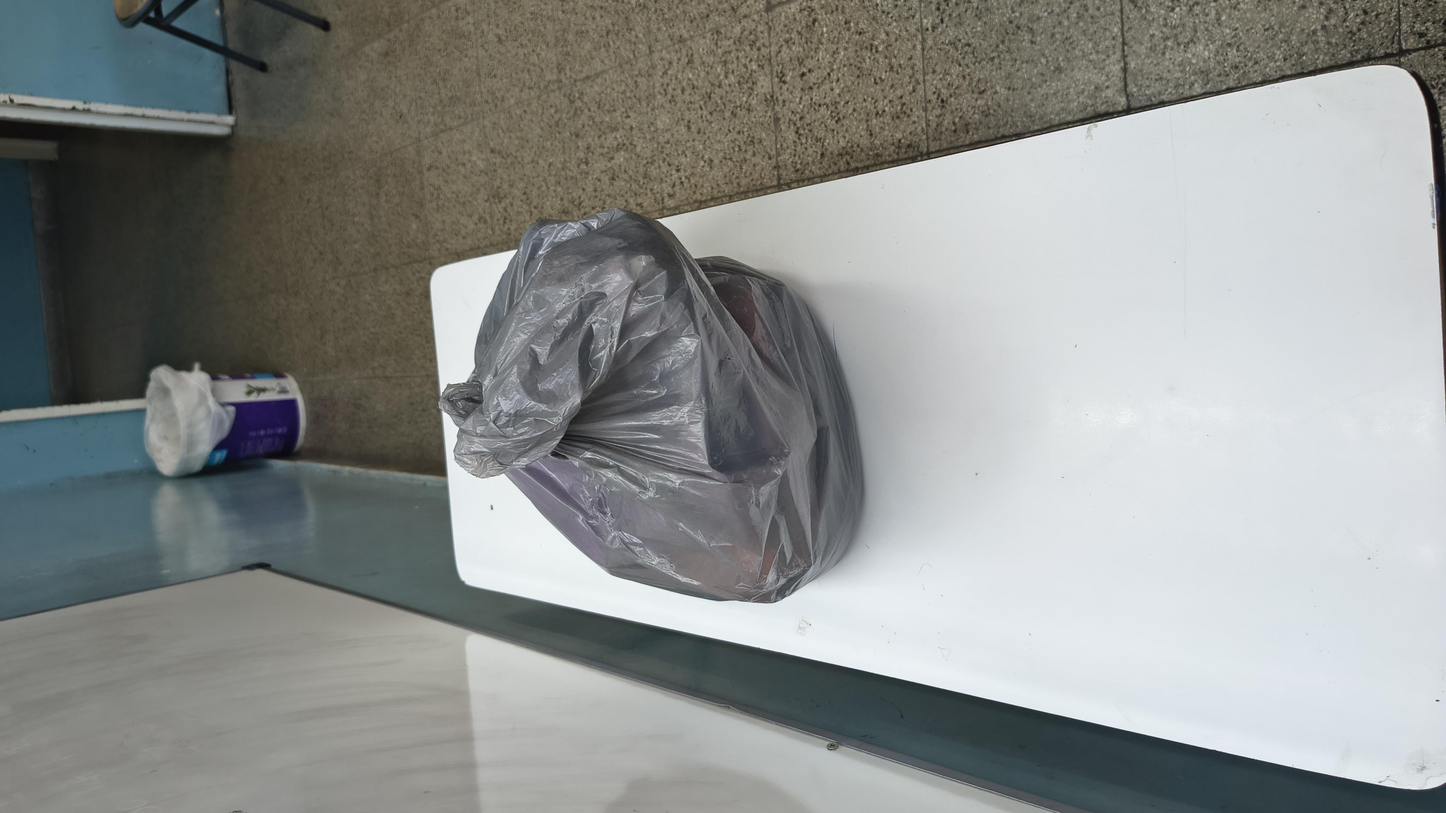Garbage: (333, 224, 1149, 510)
